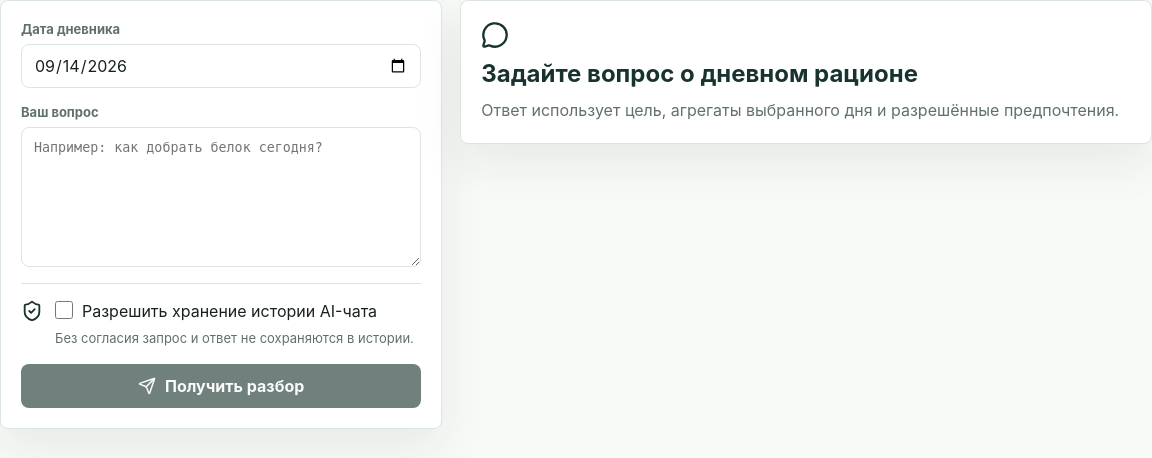
it: NutritionCoachPanel › renders a structured nutrition response without storing it by default
Type "Как добрать белок?" into the text box labelled "Ваш вопрос" at (221, 197), box [21,127,421,267]
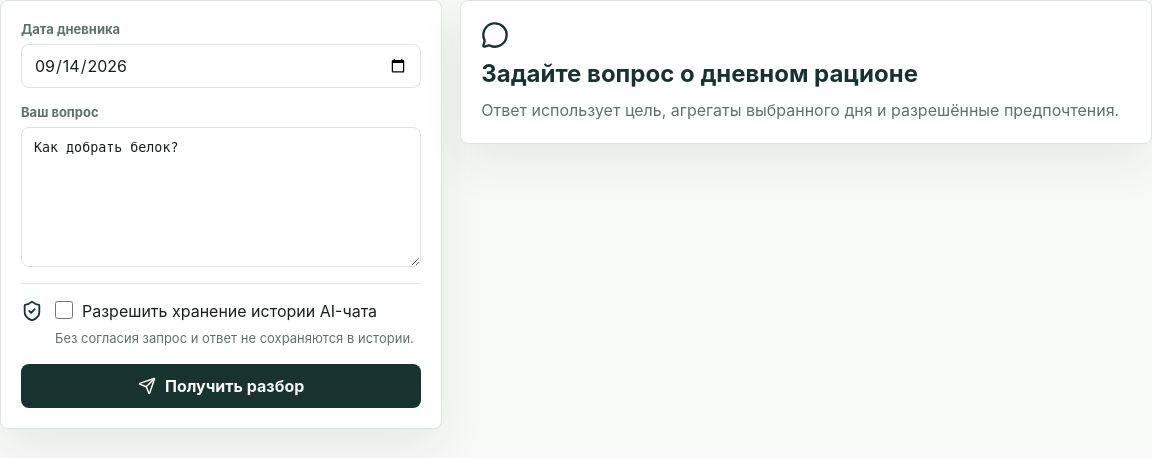
Submit the form named "Получить разбор", box [0,0,442,429]
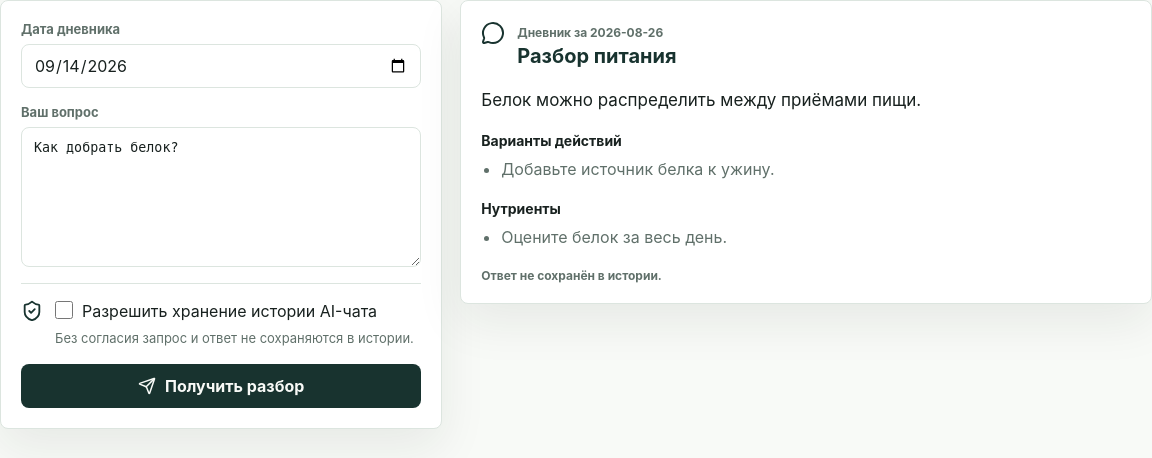
Expected: the heading "Разбор питания" is shown, [517,44,676,68]
Expected: the list item "Добавьте источник белка к ужину." is shown, [501,159,774,179]
Expected: the text "Ответ не сохранён в истории." is shown, [481,268,662,283]
